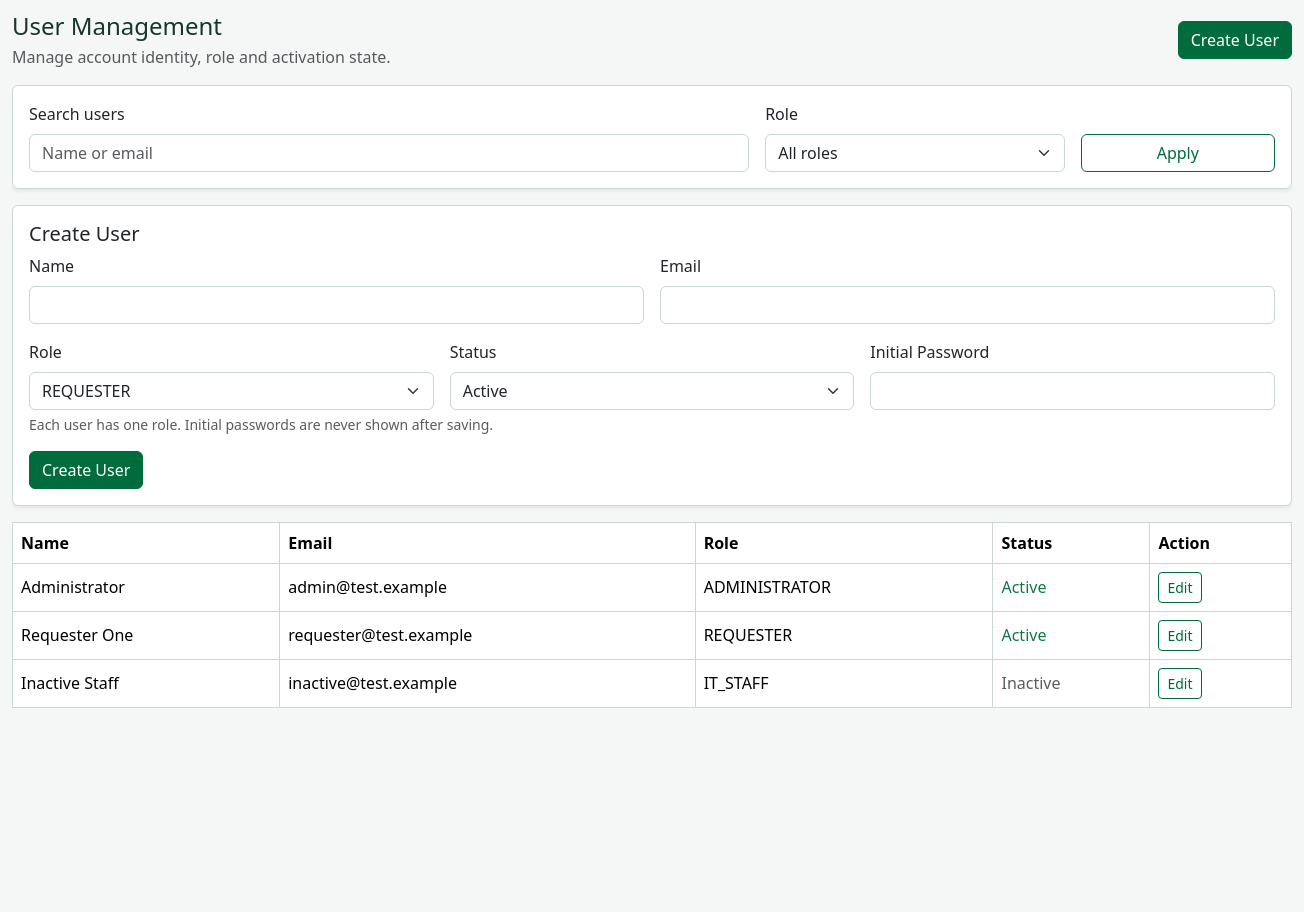
Administrator User Management › creates an inactive user with one role and initial password
Expected: the text "Requester One" is shown, [12, 611, 280, 659]
Type "New Inactive" into the field labelled "Name" at (336, 305), box [29, 286, 644, 324]
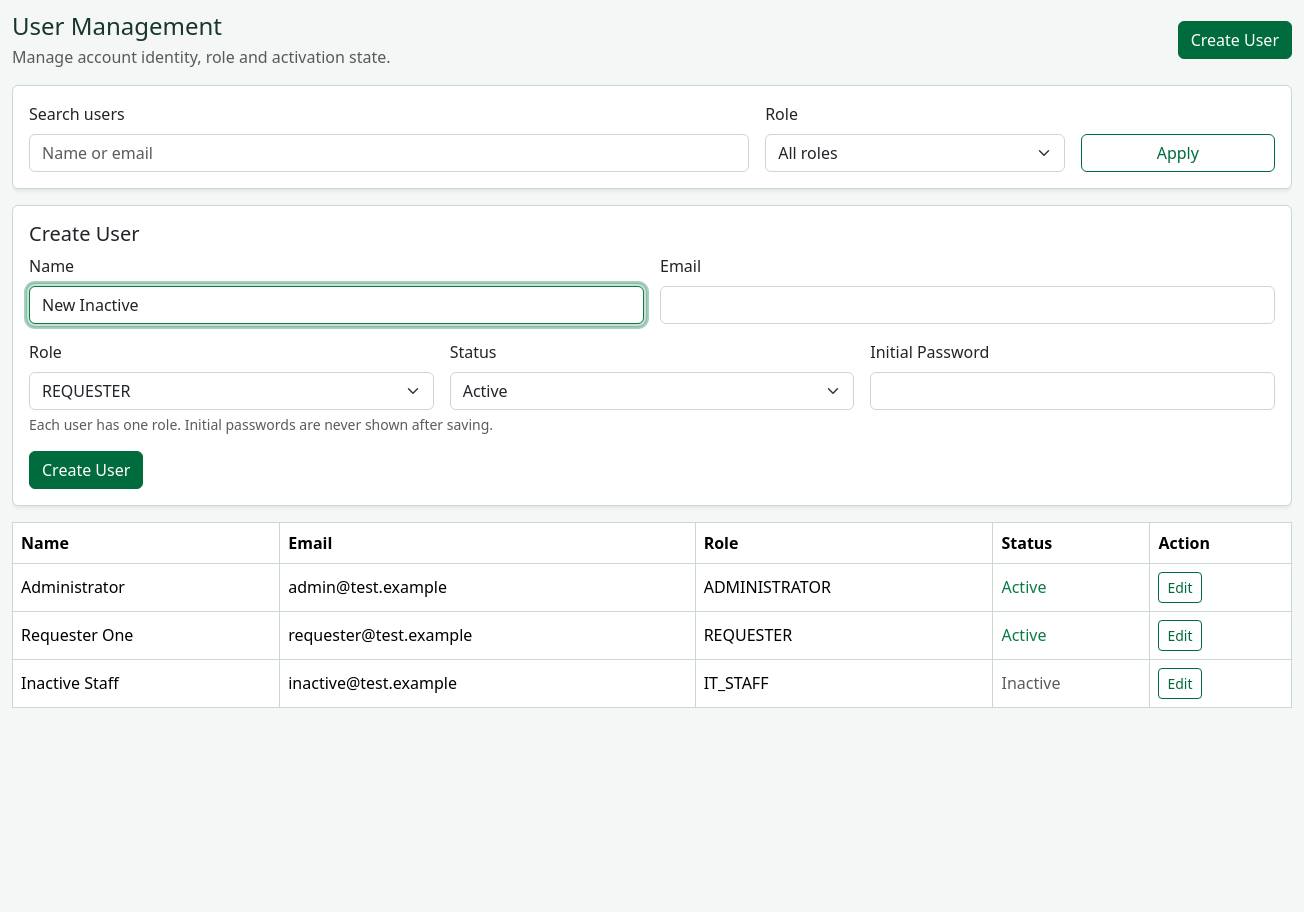
Type "new-inactive@test.example" into the field labelled "Email" at (968, 305), box [660, 286, 1275, 324]
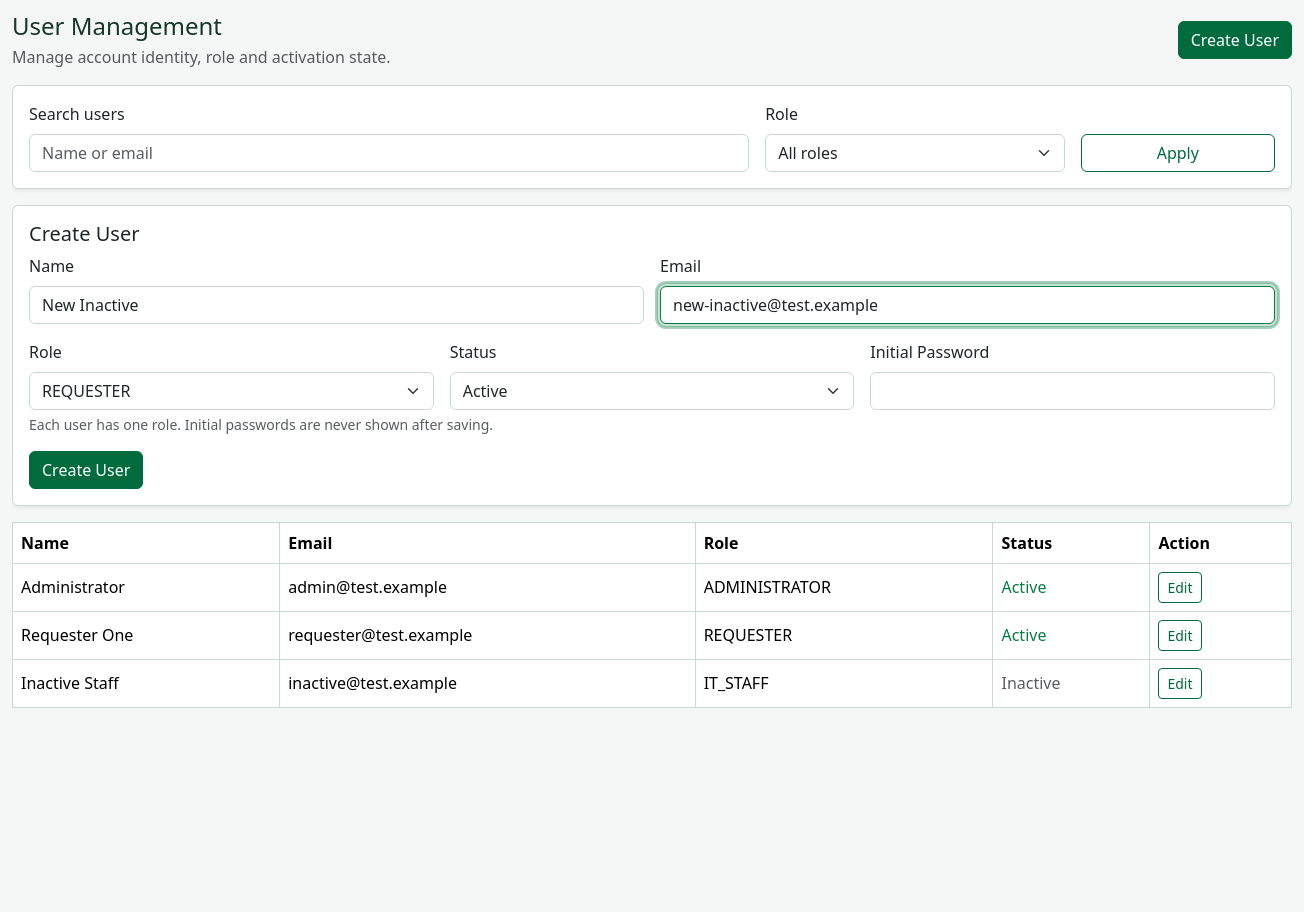
Select "IT_STAFF" in the 2nd dropdown labelled "Role" at (231, 391), box [29, 372, 434, 410]
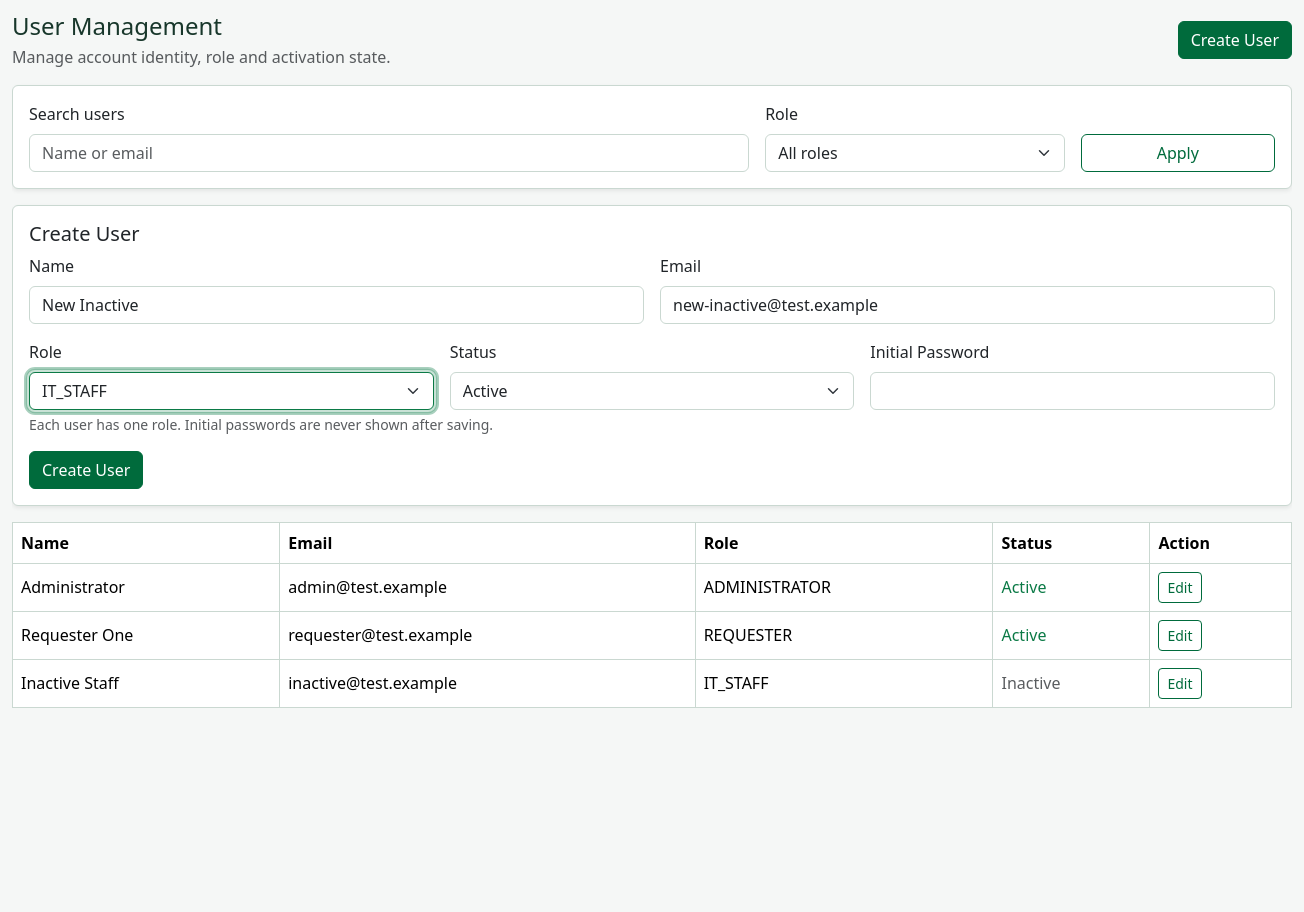
Select "Inactive" in the dropdown labelled "Status" at (652, 391), box [450, 372, 854, 410]
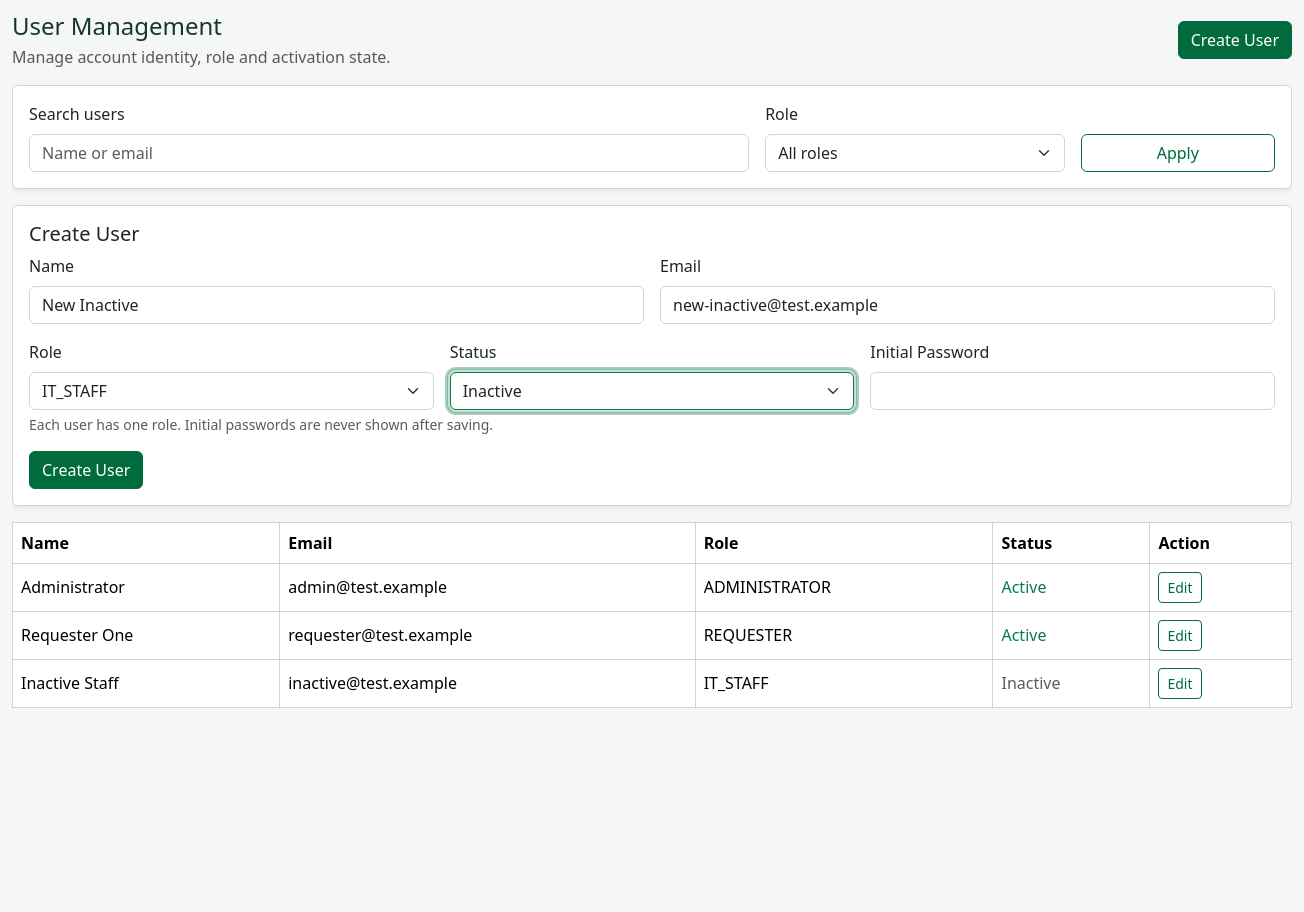
Type "Valid-Password1!" into the password field labelled "Initial Password" at (1073, 391), box [870, 372, 1275, 410]
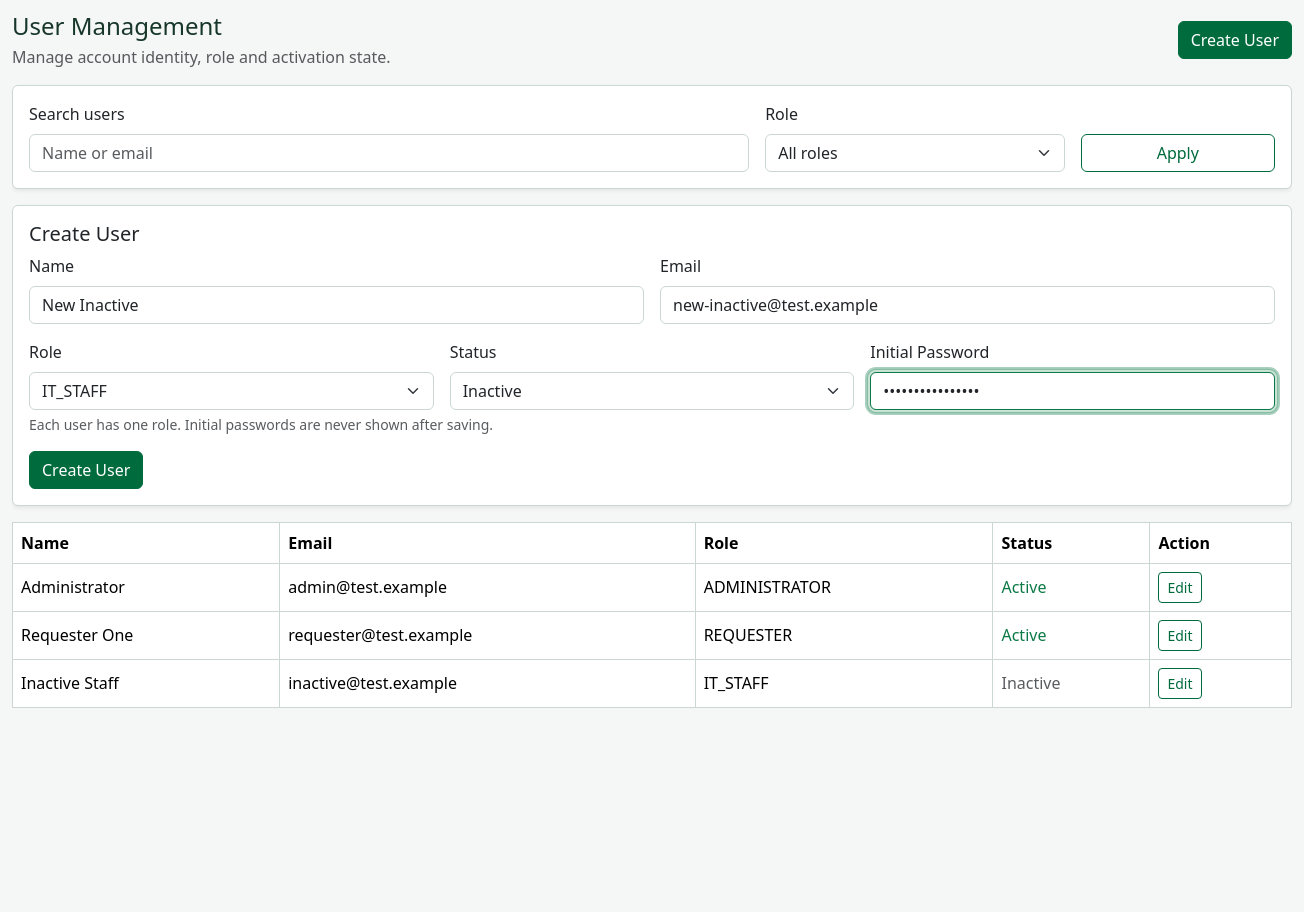
Click the 2nd button "Create User" at (86, 470), box [29, 451, 143, 489]
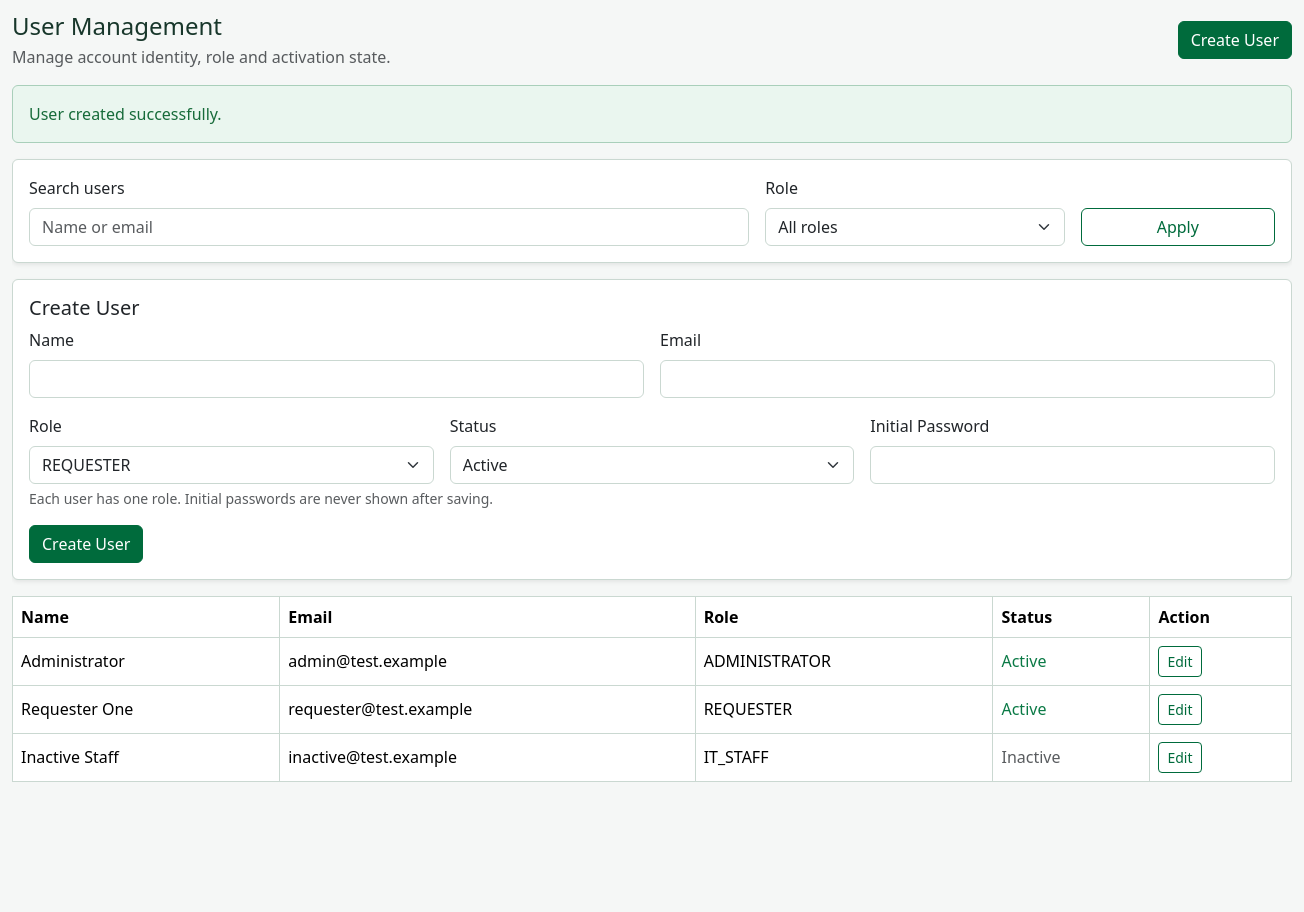
Expected: the text "User created successfully." is shown, [12, 85, 1292, 143]
